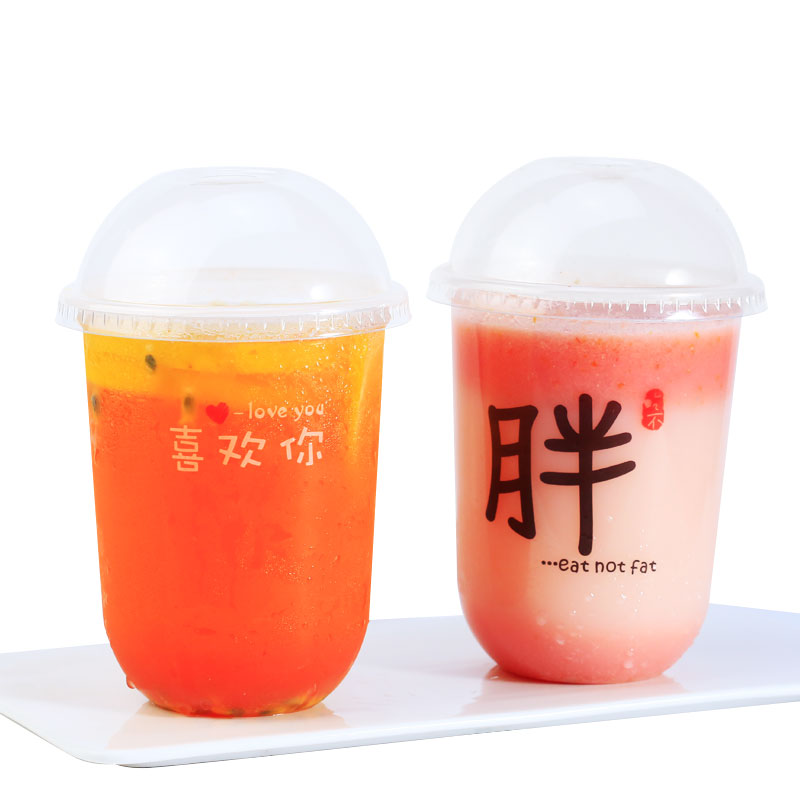plastic_glass: (51, 157, 418, 734), (418, 149, 760, 699)
